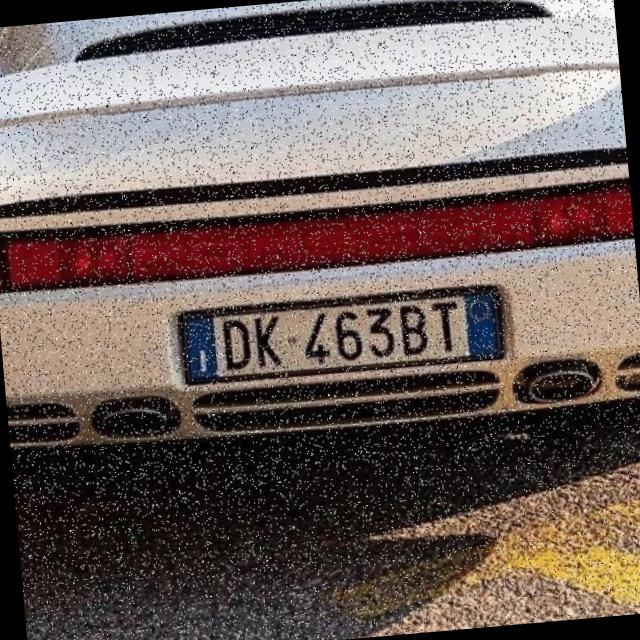LicensePlate: (167, 281, 512, 399)
